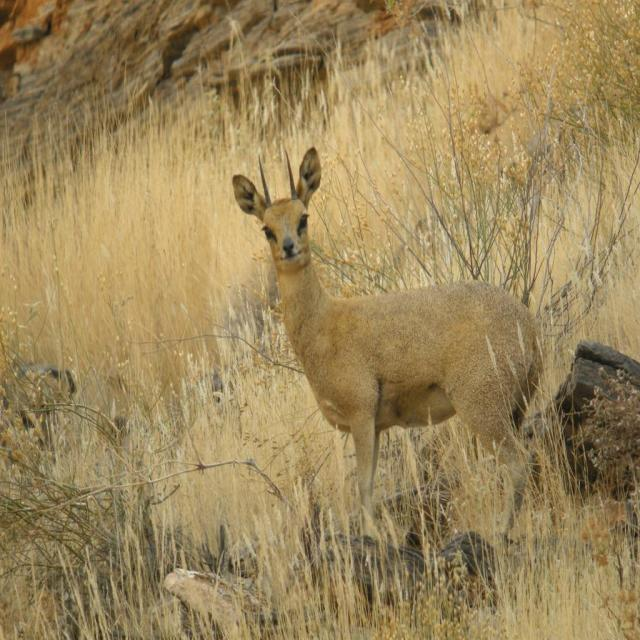Deer: (230, 144, 545, 537)
